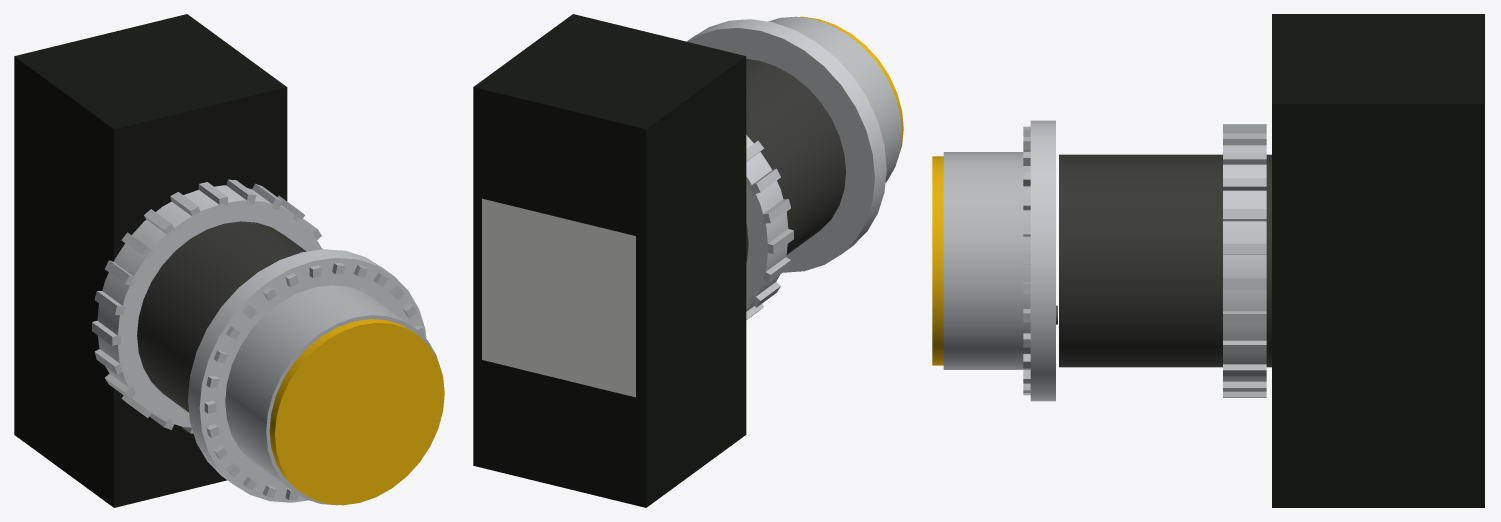
Rendered from pushButtonXb2Yellow.glb.
The picture shows the model from 3 angles, left to right: view 1: azimuth 30°, elevation 25°; view 2: azimuth 150°, elevation 25°; view 3: azimuth 270°, elevation 25°; orthographic projection. The views are drawn at different scales.
Parts seen in each view (by area): view 1: industrial_xb2_contact, industrial_xb2_cap_face, industrial_xb2_body, industrial_xb2_bezel, industrial_xb2_cap, industrial_xb2_locknut; view 2: industrial_xb2_contact, industrial_xb2_etch_back, industrial_xb2_bezel, industrial_xb2_body, industrial_xb2_cap, industrial_xb2_locknut, industrial_xb2_cap_face; view 3: industrial_xb2_contact, industrial_xb2_body, industrial_xb2_cap, industrial_xb2_bezel, industrial_xb2_locknut, industrial_xb2_cap_face, industrial_xb2_locknut_knurl_23.
Boxes of the visible parts, left/top/right/bottom form: industrial_xb2_contact: left=14, top=14, right=287, bottom=507; industrial_xb2_cap_face: left=269, top=319, right=444, bottom=505; industrial_xb2_body: left=137, top=221, right=306, bottom=412; industrial_xb2_bezel: left=188, top=249, right=426, bottom=502; industrial_xb2_cap: left=225, top=285, right=437, bottom=505; industrial_xb2_locknut: left=97, top=185, right=321, bottom=427; industrial_xb2_contact: left=473, top=14, right=746, bottom=507; industrial_xb2_etch_back: left=482, top=198, right=635, bottom=397; industrial_xb2_bezel: left=687, top=19, right=886, bottom=272; industrial_xb2_body: left=746, top=59, right=845, bottom=262; industrial_xb2_cap: left=768, top=16, right=901, bottom=182; industrial_xb2_locknut: left=746, top=135, right=788, bottom=311; industrial_xb2_cap_face: left=800, top=16, right=903, bottom=150; industrial_xb2_contact: left=1272, top=14, right=1484, bottom=507; industrial_xb2_body: left=1059, top=154, right=1271, bottom=367; industrial_xb2_cap: left=943, top=152, right=1030, bottom=369; industrial_xb2_bezel: left=1030, top=120, right=1055, bottom=401; industrial_xb2_locknut: left=1223, top=133, right=1266, bottom=381; industrial_xb2_cap_face: left=932, top=156, right=943, bottom=365; industrial_xb2_locknut_knurl_23: left=1223, top=340, right=1266, bottom=353.
Size of the model in its own units: 0.029 by 0.0463 by 0.0572.
